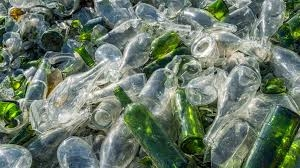glass: (111, 83, 192, 168), (34, 56, 118, 133), (202, 59, 261, 152), (243, 102, 300, 168), (171, 79, 209, 154), (256, 1, 284, 53), (144, 29, 182, 61), (6, 65, 37, 94), (1, 98, 24, 132)
